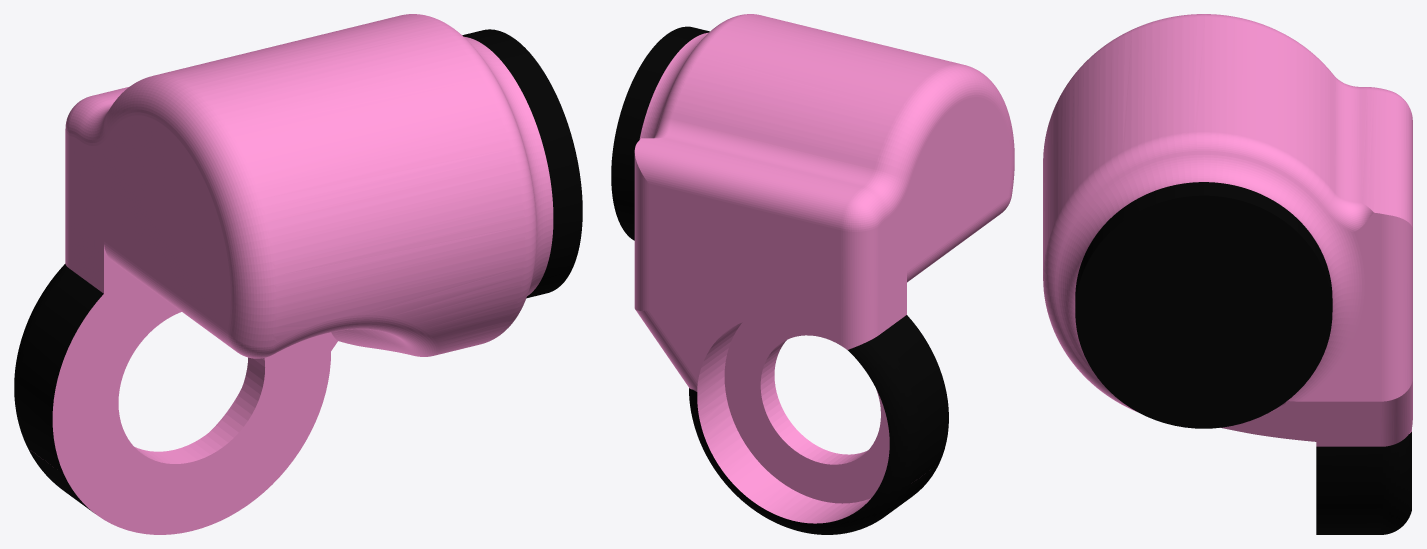
Rendered from Astorino Robot Joint 3.dae.
3 renders of one model, left to right at view 1: azimuth 30°, elevation 25°; view 2: azimuth 150°, elevation 25°; view 3: azimuth 270°, elevation 25°, orthographic. The views are drawn at different scales.
Visible parts, largest first — view 1: Astorino Robot Joint 3; view 2: Astorino Robot Joint 3; view 3: Astorino Robot Joint 3.
Part boxes in pixels (bbox=[...]): Astorino Robot Joint 3: bbox=[14, 14, 582, 534]; Astorino Robot Joint 3: bbox=[611, 14, 1014, 534]; Astorino Robot Joint 3: bbox=[1043, 14, 1412, 534].
Size of the model in its own units: 0.1375 by 0.115 by 0.1635.
